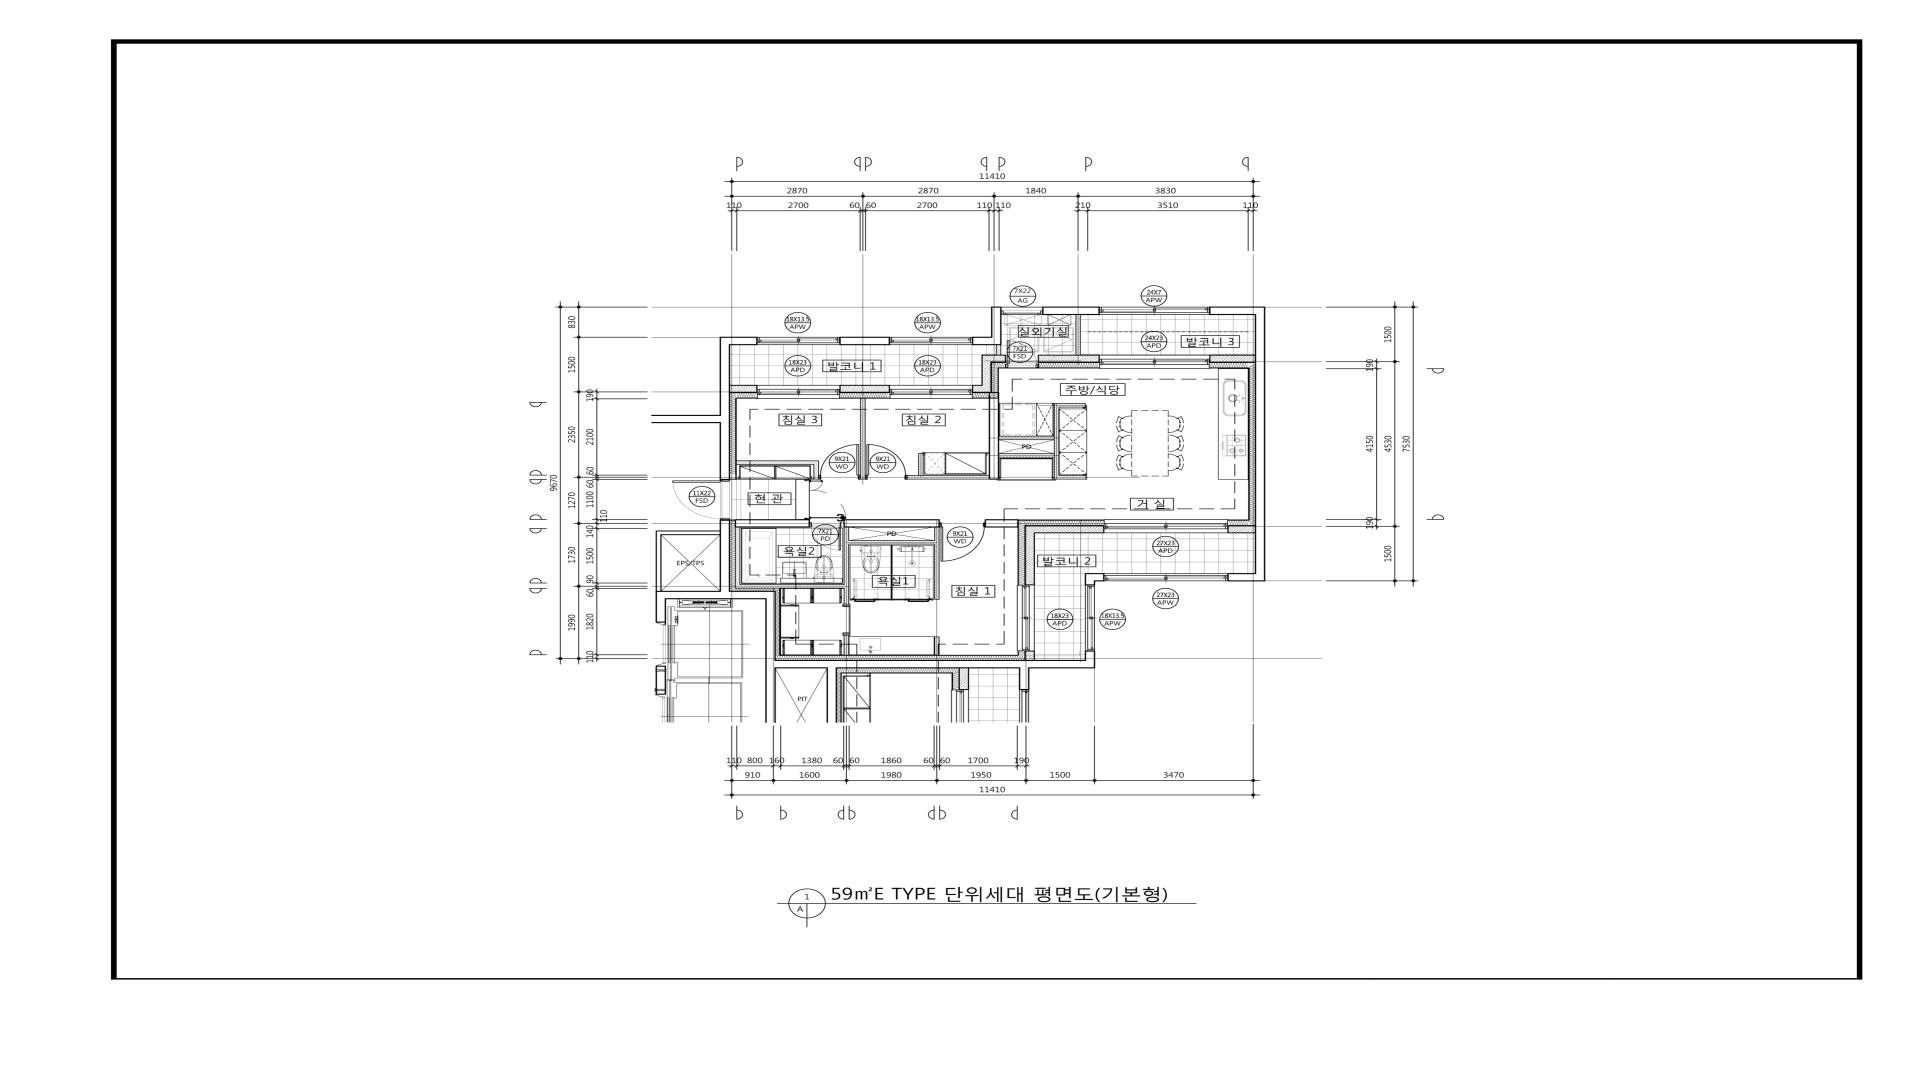door: (671, 480, 723, 520), (940, 524, 985, 562), (808, 480, 847, 518), (866, 444, 907, 477), (820, 444, 860, 477), (1007, 340, 1038, 365), (811, 526, 840, 551), (905, 579, 930, 603), (853, 579, 878, 601), (843, 604, 851, 634)
wall: (655, 520, 775, 669), (1209, 307, 1266, 582), (651, 336, 757, 480), (774, 651, 1096, 669), (1025, 525, 1105, 585), (972, 355, 1006, 393), (972, 306, 1002, 345), (989, 393, 1000, 480), (843, 520, 940, 527), (736, 520, 810, 527), (1042, 306, 1100, 315), (1039, 355, 1100, 363), (934, 527, 940, 600), (840, 336, 890, 345), (735, 584, 844, 588), (907, 475, 989, 480), (860, 398, 865, 479), (736, 460, 814, 465), (844, 527, 849, 604), (655, 530, 662, 591), (840, 385, 890, 393), (735, 527, 741, 584), (1209, 355, 1255, 363), (1054, 407, 1059, 476), (849, 541, 935, 545), (662, 530, 720, 535), (655, 666, 666, 695), (1000, 435, 1054, 440), (1084, 572, 1104, 585), (1075, 315, 1081, 355), (1228, 525, 1255, 533), (1000, 454, 1055, 458), (731, 385, 757, 393), (1054, 475, 1087, 480), (890, 545, 893, 599), (918, 454, 924, 475), (1054, 404, 1085, 407), (844, 634, 849, 655), (814, 460, 819, 480), (934, 637, 939, 655), (996, 345, 1002, 355), (878, 599, 906, 600)
window: (1104, 518, 1228, 533), (1100, 355, 1209, 369), (1017, 585, 1035, 651), (757, 385, 840, 400), (890, 385, 972, 400), (1104, 574, 1228, 582), (1100, 307, 1209, 315), (757, 336, 840, 345), (890, 336, 972, 345), (1085, 585, 1095, 651), (1001, 306, 1042, 315)
